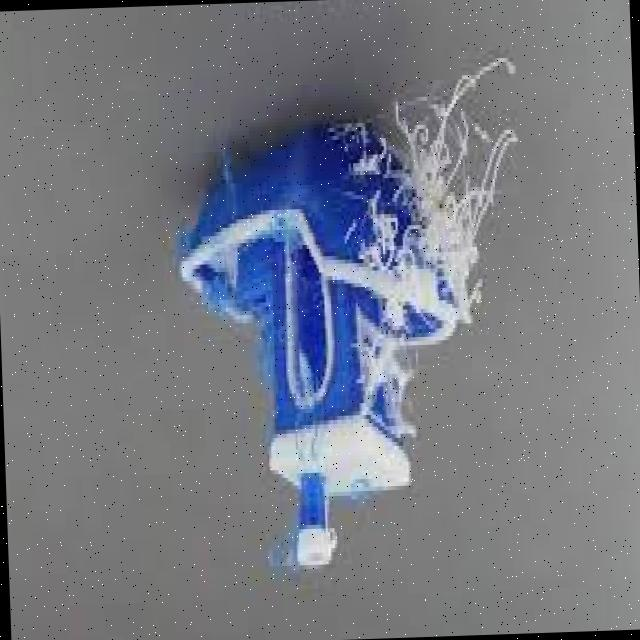spaghetti: (371, 40, 518, 298), (362, 306, 426, 441), (263, 509, 300, 588)
